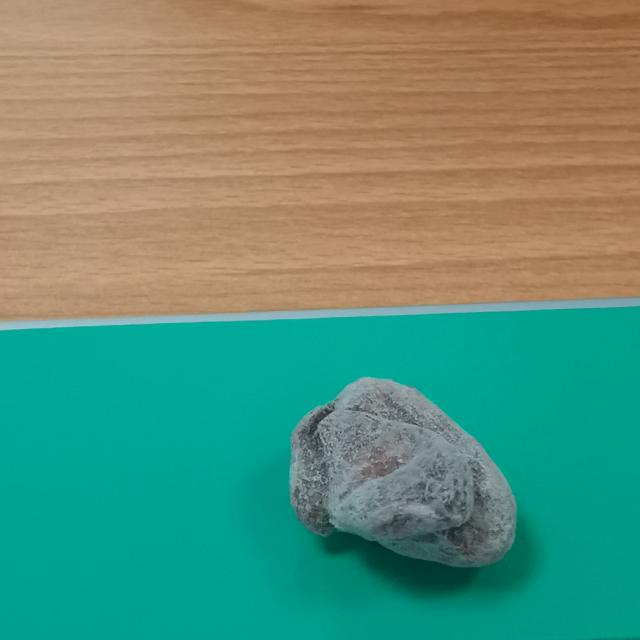Agglomerated_cocoabeans: (218, 324, 570, 627)
